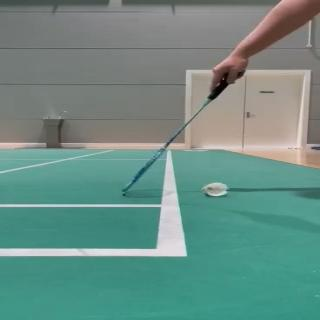Shuttle: (202, 182, 230, 197)
